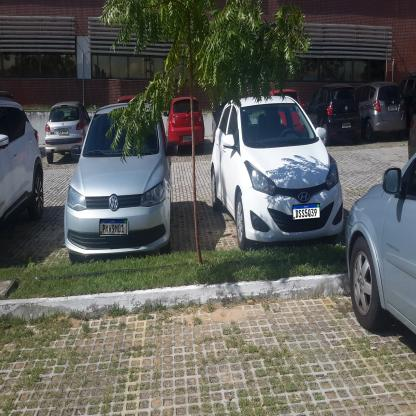PlacaM: (292, 203, 320, 220), (100, 219, 127, 235)
